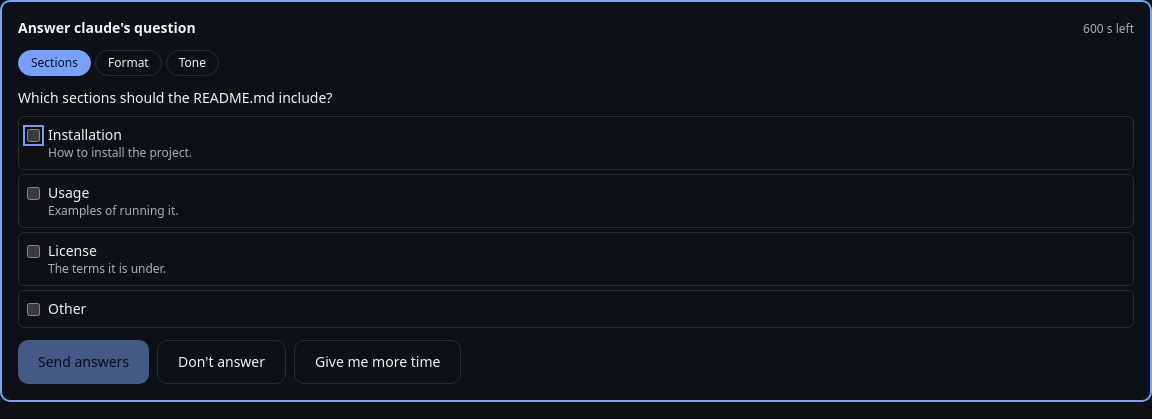
Test case: the card of a question of Claude — plan 24, B-13, B-14 › highlights the option Claude recommends, and does not choose it — S-71
Click the tab "Tone" at [192, 63], box [166,50,219,76]
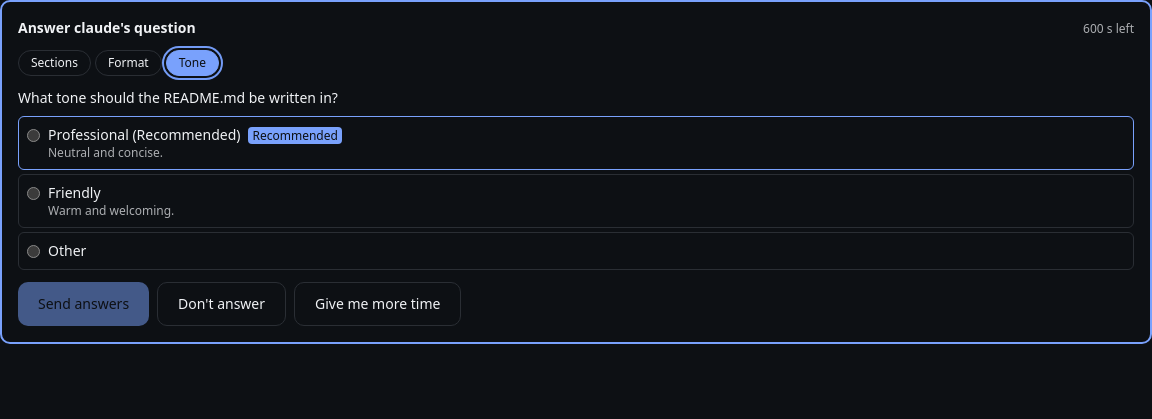
Expected: the radio button labelled "Professional (Recommended)Recommended Neutral and concise." is not checked, [27,129,40,142]
Expected: the text "Recommended" is shown, [248,127,342,144]
